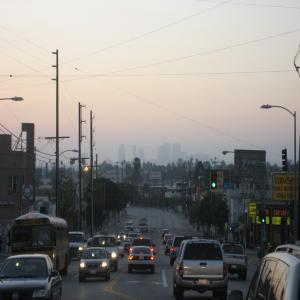Vehicle-registration-plate: (199, 280, 209, 286), (92, 272, 97, 276), (232, 267, 238, 270), (141, 258, 145, 261)
